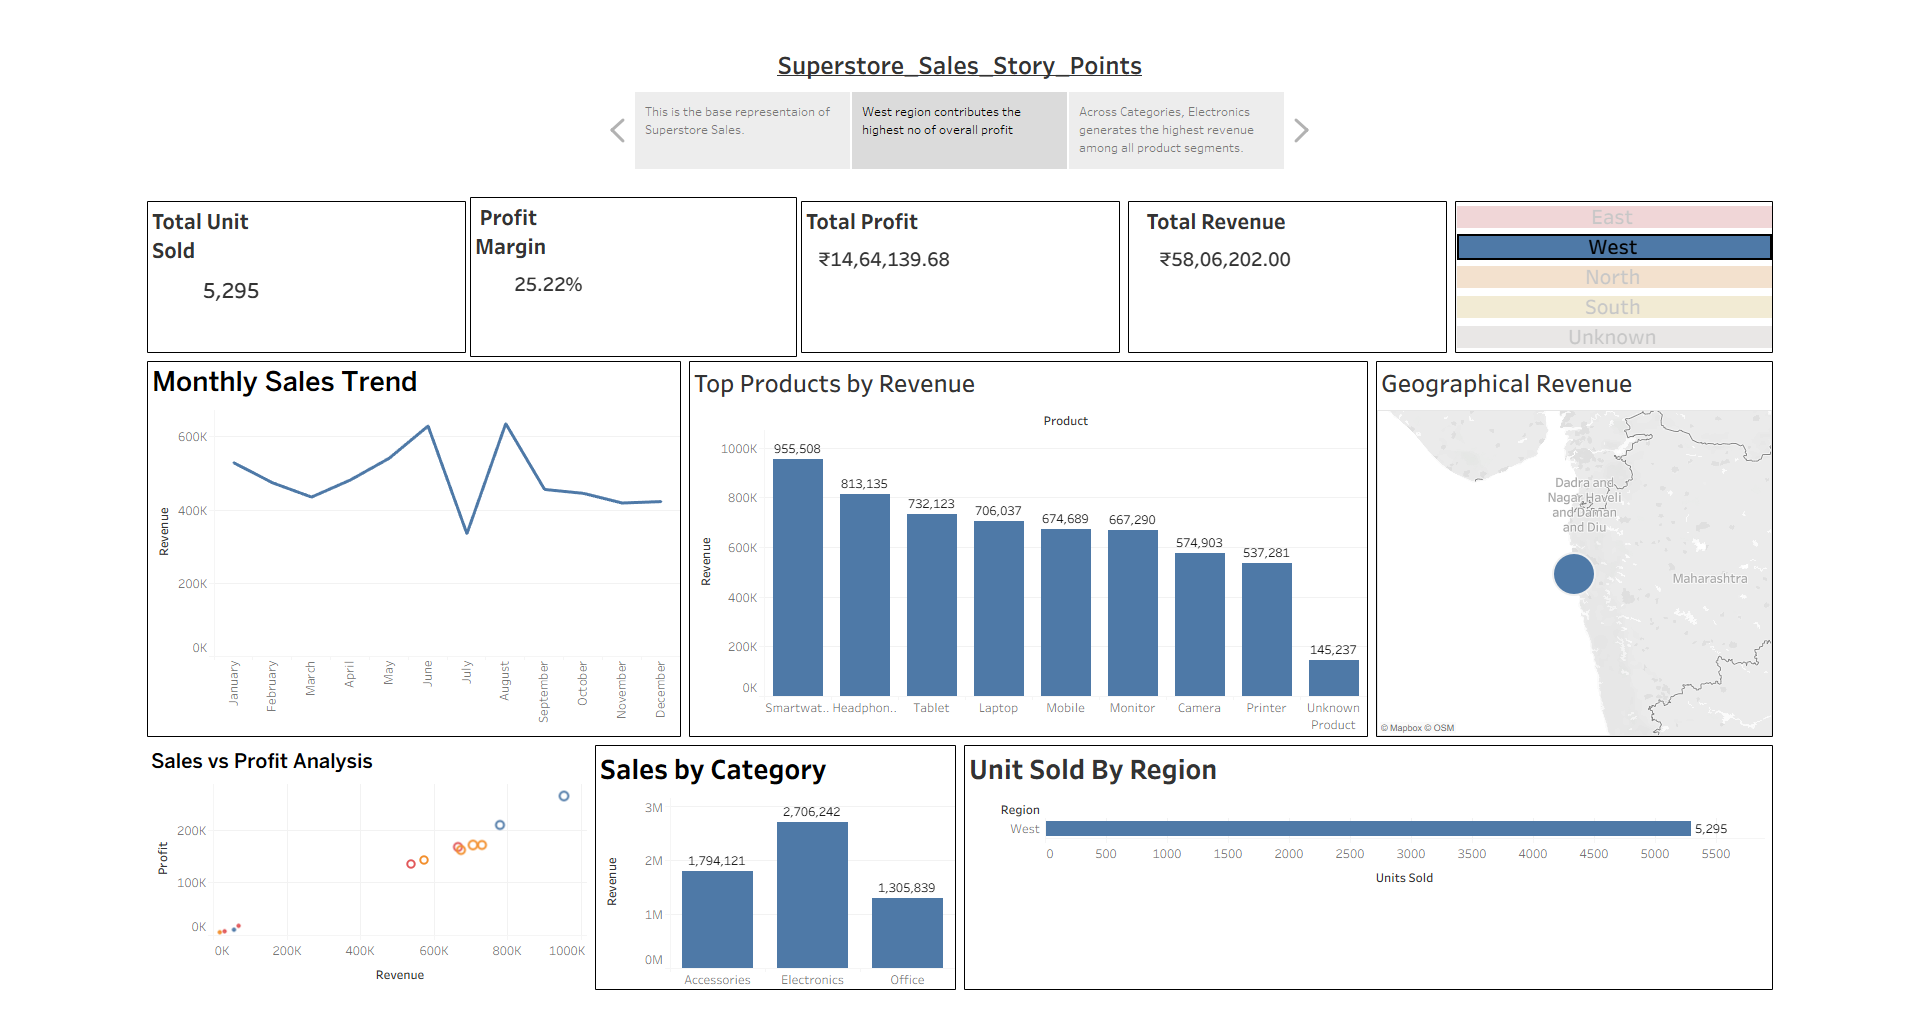

The dashboard page shown, as its layout file describes it:
{"tool":"tableau","page":{"name":"Dashboard 1","canvas":[1000,1000],"units":"permille","ordinal":0},"visuals":[{"type":"worksheet","title":"KPI 4","mark":"Automatic","box":[4.9,9.3,198.2,186.1]},{"type":"worksheet","title":"KPI 3","mark":"Automatic","box":[203,9.3,198.2,186.1]},{"type":"worksheet","title":"KPI 2","mark":"Automatic","box":[401.2,9.3,198.2,186.1]},{"type":"worksheet","title":"KPI 1","mark":"Automatic","box":[599.4,9.3,198.2,186.1]},{"type":"worksheet","title":"Region Filter","mark":"Automatic","rows":["Region"],"cols":["Calculation_1579770297634817"],"box":[797.6,9.3,197.6,186.1]},{"type":"worksheet","title":"Sales trend","mark":"Automatic","rows":["Revenue"],"cols":["Date"],"box":[4.9,195.3,328.4,479.1]},{"type":"worksheet","title":"Top products revenue","mark":"Automatic","rows":["Revenue"],"cols":["Product"],"box":[333.3,195.3,416.4,479.1]},{"type":"worksheet","title":"Map","mark":"Automatic","rows":["Latitude"],"cols":["Longitude"],"box":[749.7,195.3,245.5,479.1]},{"type":"worksheet","title":"Sales vs profit","mark":"Automatic","rows":["Profit"],"cols":["Revenue"],"box":[4.9,674.5,271.4,316.2]},{"type":"worksheet","title":"Sales category","mark":"Automatic","rows":["Revenue"],"cols":["Category"],"box":[276.3,674.5,223.7,316.2]},{"type":"worksheet","title":"unit sold","mark":"Automatic","rows":["Region"],"cols":["Units_Sold"],"box":[500,674.5,495.2,316.2]}]}

Visuals, with their boxes on the dashboard's canvas, which has no fixed pixel size, in thousandths of its width and height (x1, y1, x2, y2). These are canvas units, not pixel positions in the 1920x1035 screenshot, which may show the page scaled, cropped or inside an application window:
"KPI 4" worksheet: {"left": 5, "top": 9, "right": 203, "bottom": 195}
"KPI 3" worksheet: {"left": 203, "top": 9, "right": 401, "bottom": 195}
"KPI 2" worksheet: {"left": 401, "top": 9, "right": 599, "bottom": 195}
"KPI 1" worksheet: {"left": 599, "top": 9, "right": 798, "bottom": 195}
"Region Filter" worksheet: {"left": 798, "top": 9, "right": 995, "bottom": 195}
"Sales trend" worksheet: {"left": 5, "top": 195, "right": 333, "bottom": 674}
"Top products revenue" worksheet: {"left": 333, "top": 195, "right": 750, "bottom": 674}
"Map" worksheet: {"left": 750, "top": 195, "right": 995, "bottom": 674}
"Sales vs profit" worksheet: {"left": 5, "top": 674, "right": 276, "bottom": 991}
"Sales category" worksheet: {"left": 276, "top": 674, "right": 500, "bottom": 991}
"unit sold" worksheet: {"left": 500, "top": 674, "right": 995, "bottom": 991}
